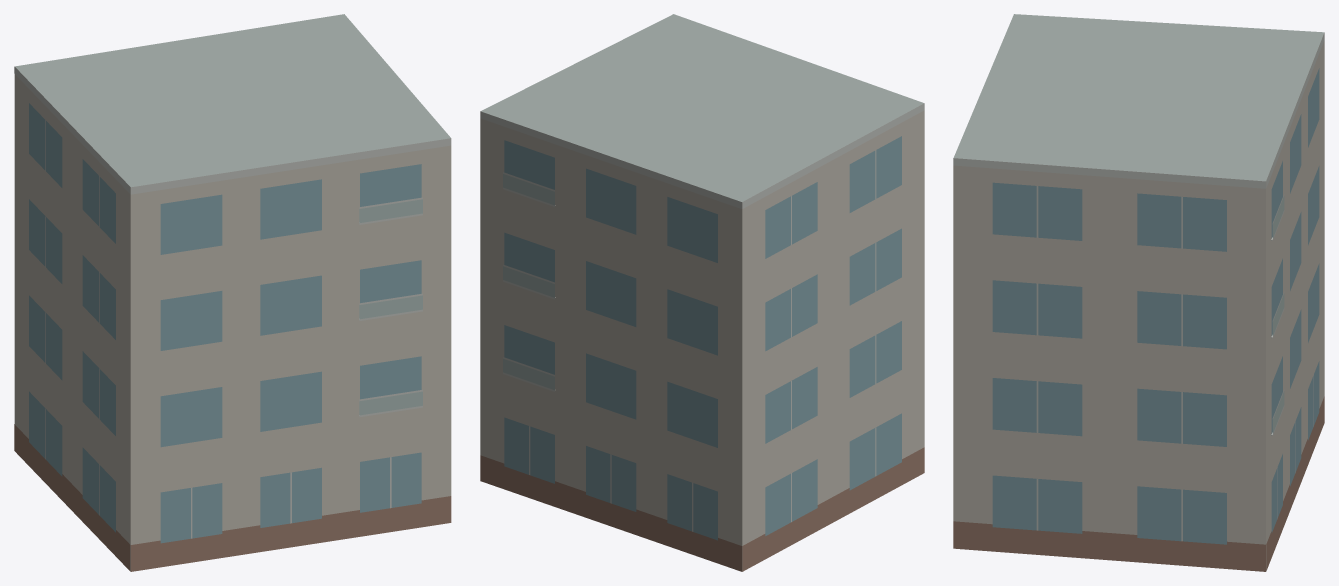
File: survey-upis-32895646.glb
3 renders of one model, left to right at view 1: azimuth 30°, elevation 25°; view 2: azimuth 150°, elevation 25°; view 3: azimuth 270°, elevation 25°, orthographic. The views are drawn at different scales.
Parts seen in each view (by area): view 1: survey-upis-32895646.tmp; view 2: survey-upis-32895646.tmp; view 3: survey-upis-32895646.tmp.
Part boxes in pixels (x1=…): survey-upis-32895646.tmp: x1=14, y1=14, x2=451, y2=571; survey-upis-32895646.tmp: x1=480, y1=14, x2=924, y2=571; survey-upis-32895646.tmp: x1=953, y1=14, x2=1324, y2=571.
Bounding box in the file's own units: 11.78 × 12.8 × 11.04.
